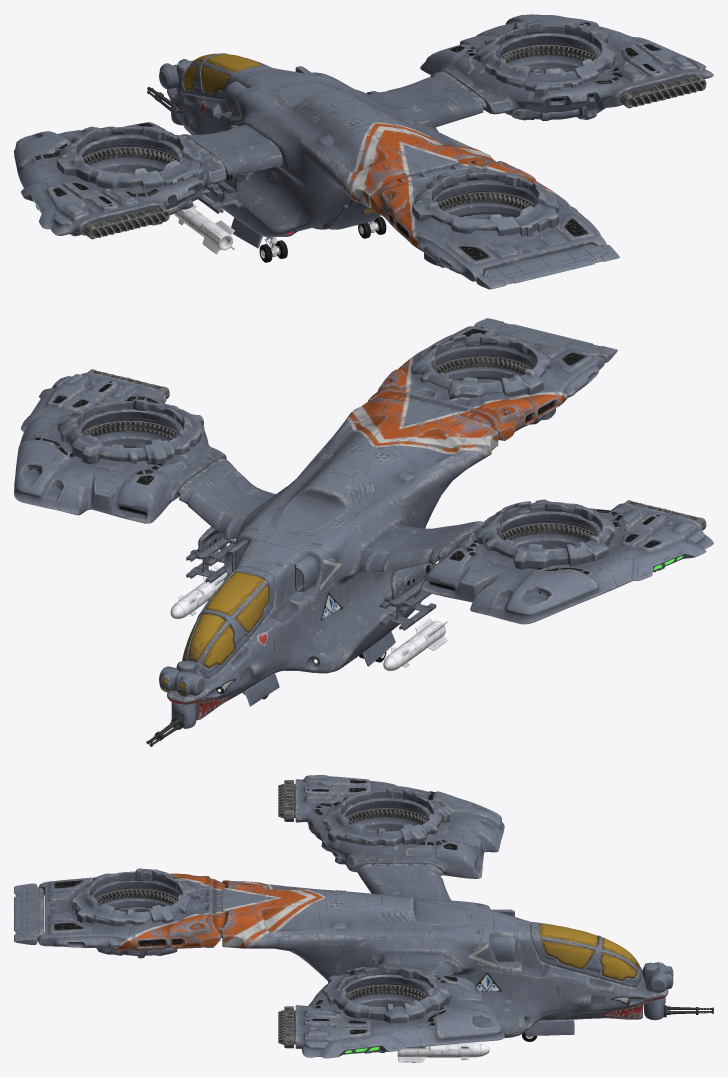
Rendered from SUP_drop_ship_or_light_attack_mars_defense_force.glb.
3 views of the same model, one above another, from view 1: azimuth 30°, elevation 25°; view 2: azimuth 150°, elevation 25°; view 3: azimuth 270°, elevation 25° (orthographic). The views are drawn at different scales.
Visible parts, largest first — view 1: SUP_drop_ship_or_light_attack_mars_defense_force; view 2: SUP_drop_ship_or_light_attack_mars_defense_force; view 3: SUP_drop_ship_or_light_attack_mars_defense_force.
Part boxes in pixels (x1,y1,x2,y2): SUP_drop_ship_or_light_attack_mars_defense_force: (14, 14, 713, 289); SUP_drop_ship_or_light_attack_mars_defense_force: (14, 318, 713, 746); SUP_drop_ship_or_light_attack_mars_defense_force: (14, 775, 713, 1062).
Bounding box in the file's own units: 2.97 × 0.7416 × 3.15.
9 materials, 9 textured.
